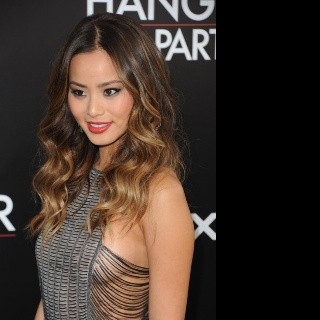without_mask: (66, 50, 134, 147)
